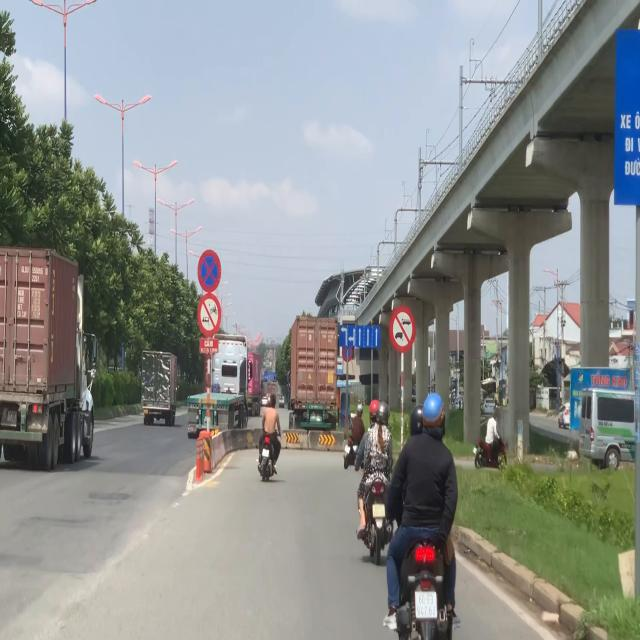Cam con lai: (388, 306, 416, 355), (196, 293, 222, 338)
Cam dung va do: (196, 248, 222, 294)
